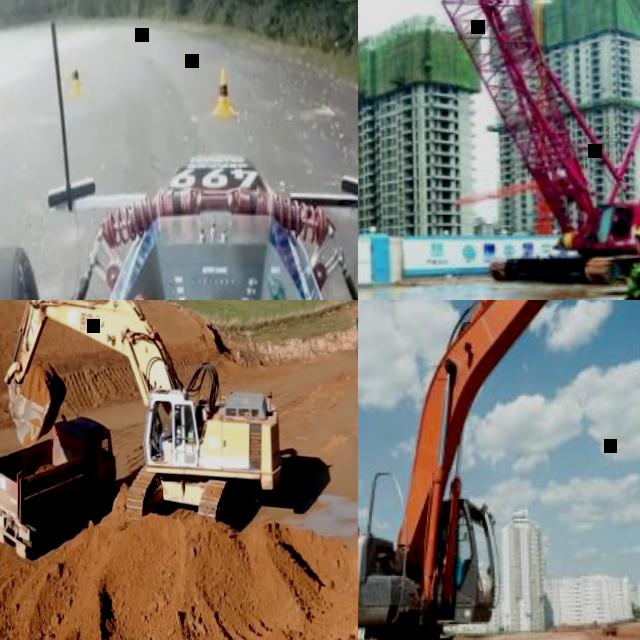NO-Hardhat: (170, 409, 173, 414)
NO-Mask: (633, 241, 640, 254)
NO-Safety Vest: (167, 418, 177, 439)
Person: (157, 409, 174, 460)
Safety Cone: (214, 64, 240, 119), (68, 63, 83, 102)
vehicle: (0, 0, 358, 300), (358, 300, 640, 640), (1, 300, 285, 528), (0, 410, 119, 561)
